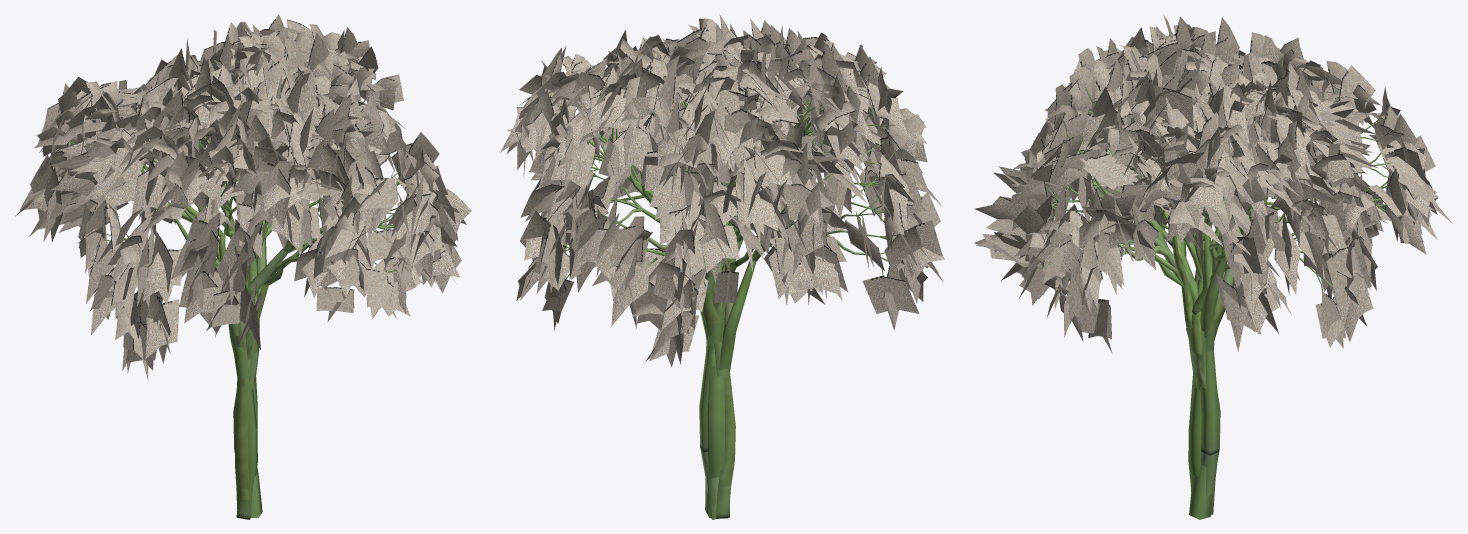
The model's file is Tree2.obj.
3 views of the same model, side by side, from view 1: azimuth 30°, elevation 25°; view 2: azimuth 150°, elevation 25°; view 3: azimuth 270°, elevation 25° (orthographic). The views are drawn at different scales.
Visible parts, largest first — view 1: Mossy_Tr.649, Mossy_Tr.1491, Mossy_Tr.484, Mossy_Tr.1588, Mossy_Tr.1873, Mossy_Tr.1288, Mossy_Tr.1481, Mossy_Tr.1899, Mossy_Tr.1699, Mossy_Tr.1695, Mossy_Tr.1476, Mossy_Tr.1525 (+15 smaller); view 2: Mossy_Tr.811, Mossy_Tr.649, Mossy_Tr.1496, Mossy_Tr.1961, Mossy_Tr.1760, Mossy_Tr.1777, Mossy_Tr.1787, Mossy_Tr.977, Mossy_Tr.1747, Mossy_Tr.1769, Mossy_Tr.1512, Mossy_Tr.1553 (+35 smaller); view 3: Mossy_Tr.977, Mossy_Tr.484, Mossy_Tr.1843, Mossy_Tr.1396, Mossy_Tr.1992, Mossy_Tr.2073, Mossy_Tr.1459, Mossy_Tr.242, Mossy_Tr.1399, Mossy_Tr.1761, Mossy_Tr.1652, Mossy_Tr.811 (+17 smaller).
Part boxes in pixels (box(x1,y1,x2,y2)): Mossy_Tr.649: box(234, 377, 248, 489); Mossy_Tr.1491: box(145, 299, 178, 359); Mossy_Tr.484: box(248, 380, 257, 490); Mossy_Tr.1588: box(131, 170, 168, 215); Mossy_Tr.1873: box(252, 160, 291, 229); Mossy_Tr.1288: box(367, 229, 411, 260); Mossy_Tr.1481: box(212, 291, 240, 327); Mossy_Tr.1899: box(111, 129, 144, 193); Mossy_Tr.1699: box(396, 193, 430, 240); Mossy_Tr.1695: box(357, 178, 395, 209); Mossy_Tr.1476: box(184, 270, 223, 323); Mossy_Tr.1525: box(190, 218, 218, 277); Mossy_Tr.811: box(706, 340, 724, 478); Mossy_Tr.649: box(718, 371, 735, 486); Mossy_Tr.1496: box(862, 276, 919, 313); Mossy_Tr.1961: box(551, 137, 595, 189); Mossy_Tr.1760: box(611, 256, 649, 326); Mossy_Tr.1777: box(653, 261, 695, 315); Mossy_Tr.1787: box(699, 225, 739, 272); Mossy_Tr.977: box(699, 342, 715, 452); Mossy_Tr.1747: box(609, 225, 649, 266); Mossy_Tr.1769: box(736, 196, 778, 231); Mossy_Tr.1512: box(884, 226, 922, 271); Mossy_Tr.1553: box(607, 126, 648, 171); Mossy_Tr.977: box(1200, 349, 1219, 455); Mossy_Tr.484: box(1188, 376, 1201, 484); Mossy_Tr.1843: box(1155, 85, 1193, 128); Mossy_Tr.1396: box(1326, 246, 1362, 294); Mossy_Tr.1992: box(1189, 177, 1222, 214); Mossy_Tr.2073: box(1197, 112, 1233, 170); Mossy_Tr.1459: box(1274, 216, 1300, 294); Mossy_Tr.242: box(1189, 476, 1212, 519); Mossy_Tr.1399: box(1336, 280, 1370, 342); Mossy_Tr.1761: box(1339, 65, 1375, 125); Mossy_Tr.1652: box(1079, 236, 1102, 313); Mossy_Tr.811: box(1192, 352, 1220, 481).
Size of the model in its own units: 19.21 by 24.69 by 22.66.
1 material, 1 textured.
